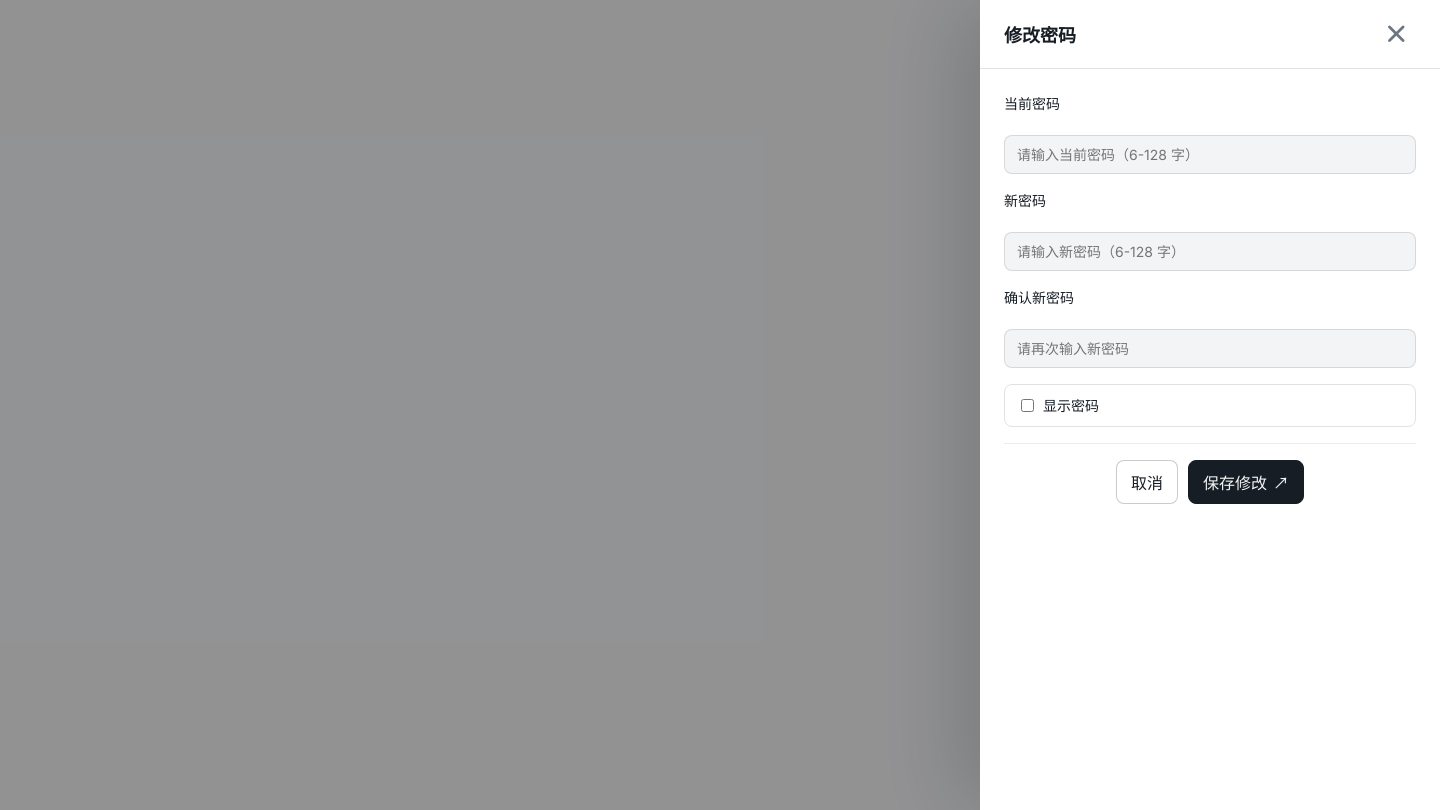
Test: 修改密码右侧抽屉 › 修改成功弹「密码已修改」Toast 并关闭抽屉
Type "old-pass-1" into the password field labelled "当前密码".
click(1210, 154); type("old-pass-1")  # box [1004,135,1416,174]
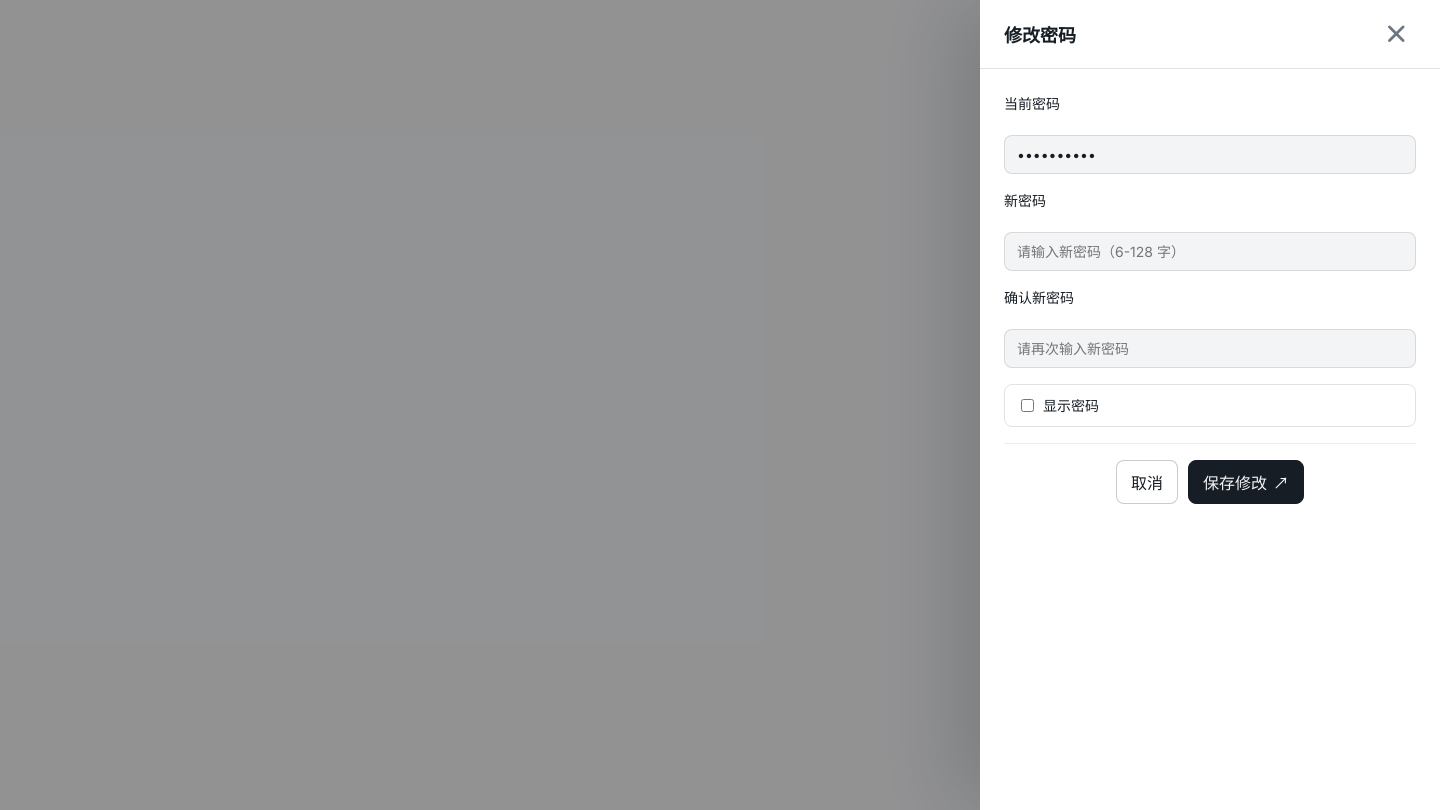
Type "new-pass-123" into the password field labelled "新密码".
click(1210, 252); type("new-pass-123")  # box [1004,232,1416,271]
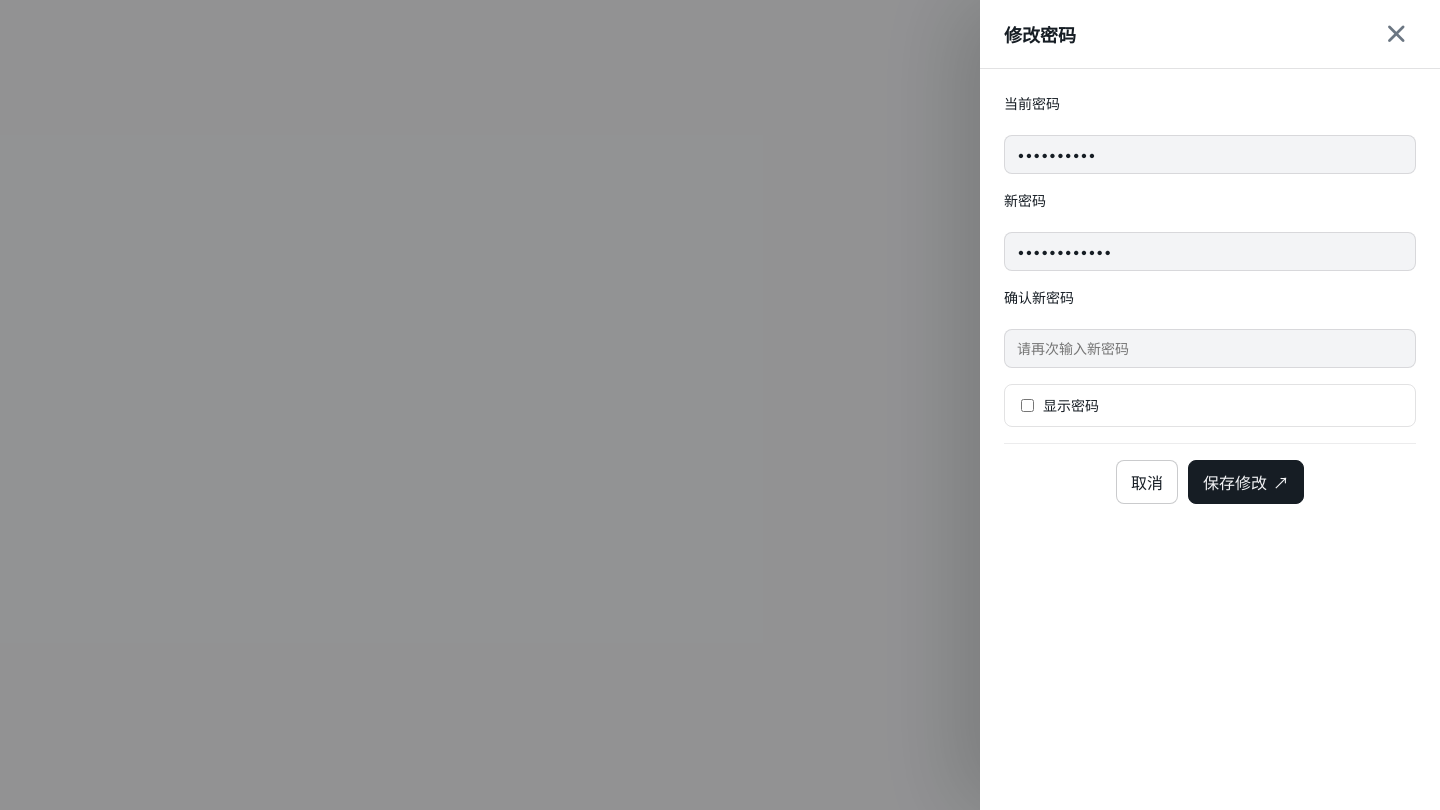
Type "new-pass-123" into the password field labelled "确认新密码".
click(1210, 348); type("new-pass-123")  # box [1004,329,1416,368]
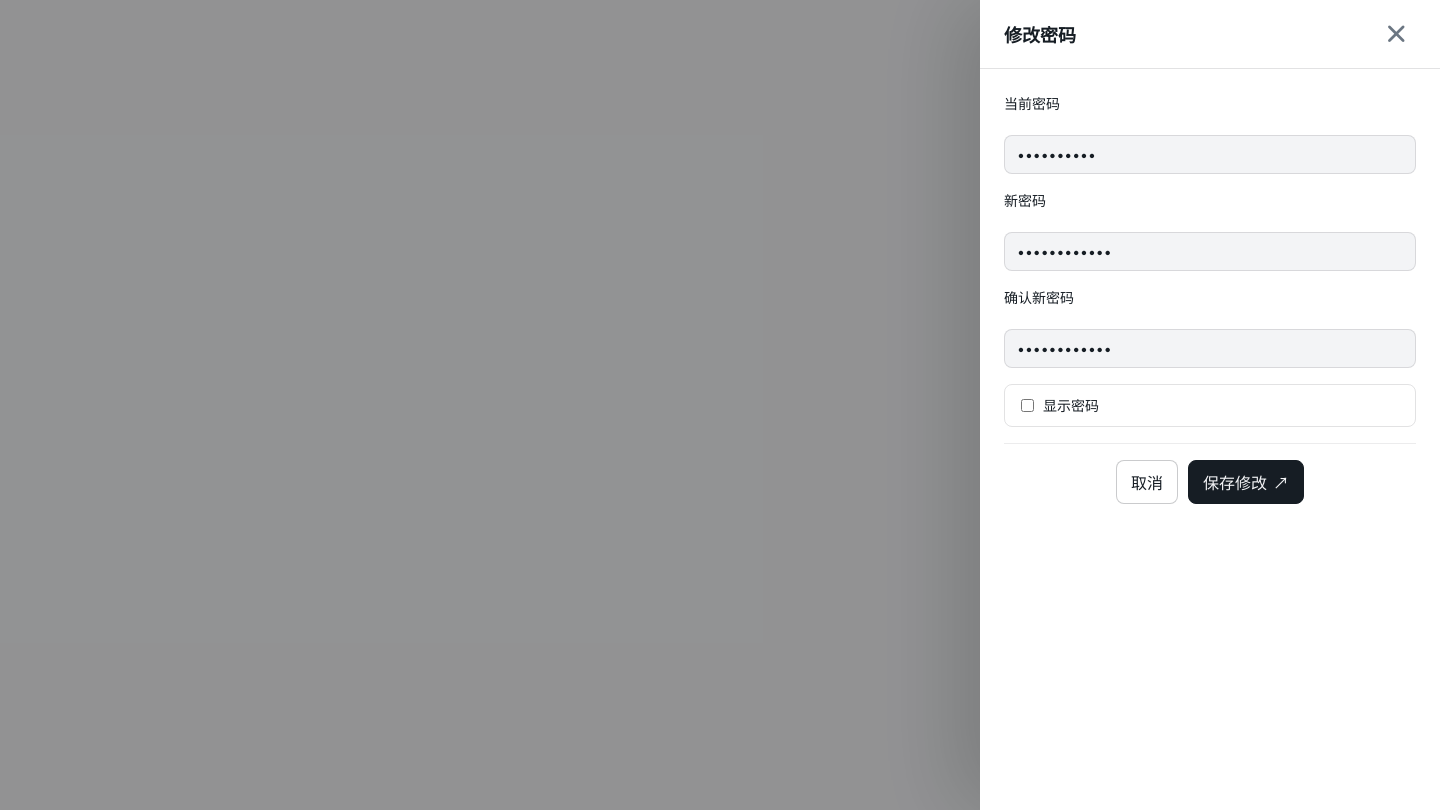
Click the button "保存修改".
click(1246, 482)  # box [1188,460,1304,504]
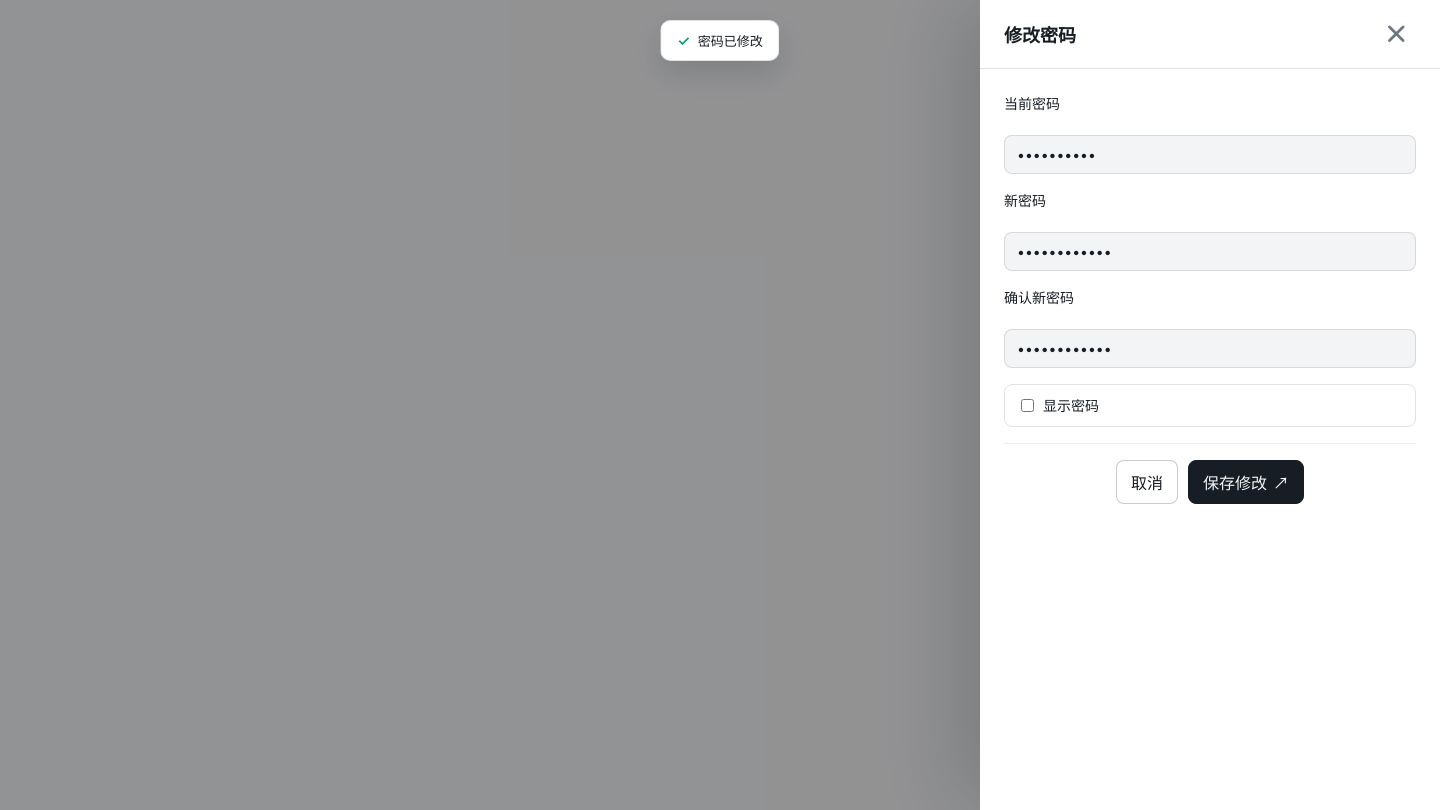
Expected: the message shows "密码已修改", [698,33,763,49]
